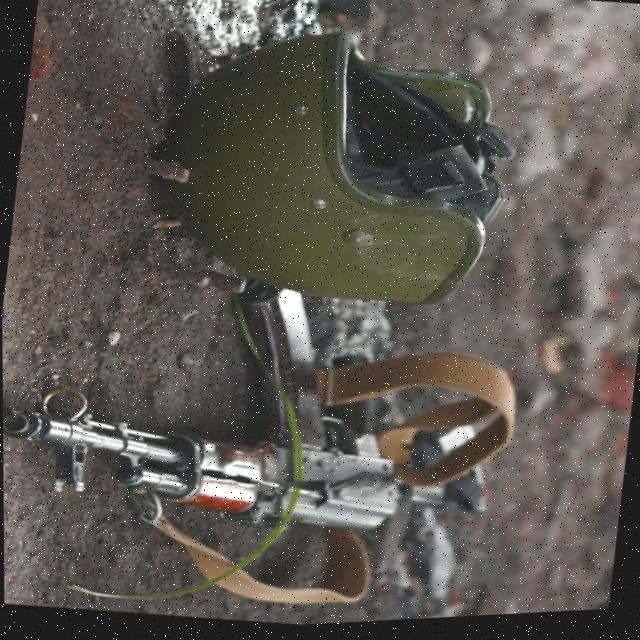firearm: (2, 261, 478, 563)
